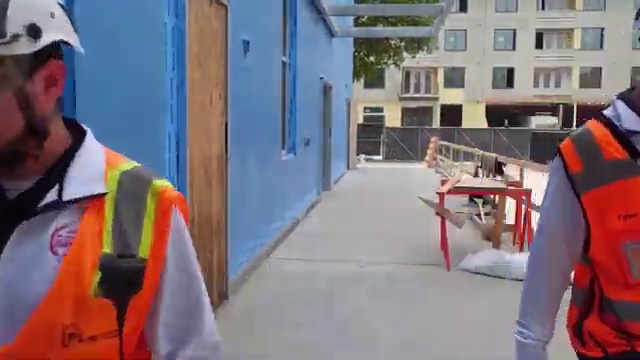jacket: (1, 135, 193, 360), (541, 109, 638, 360)
